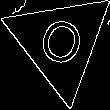O_S: (32, 11, 88, 74)
